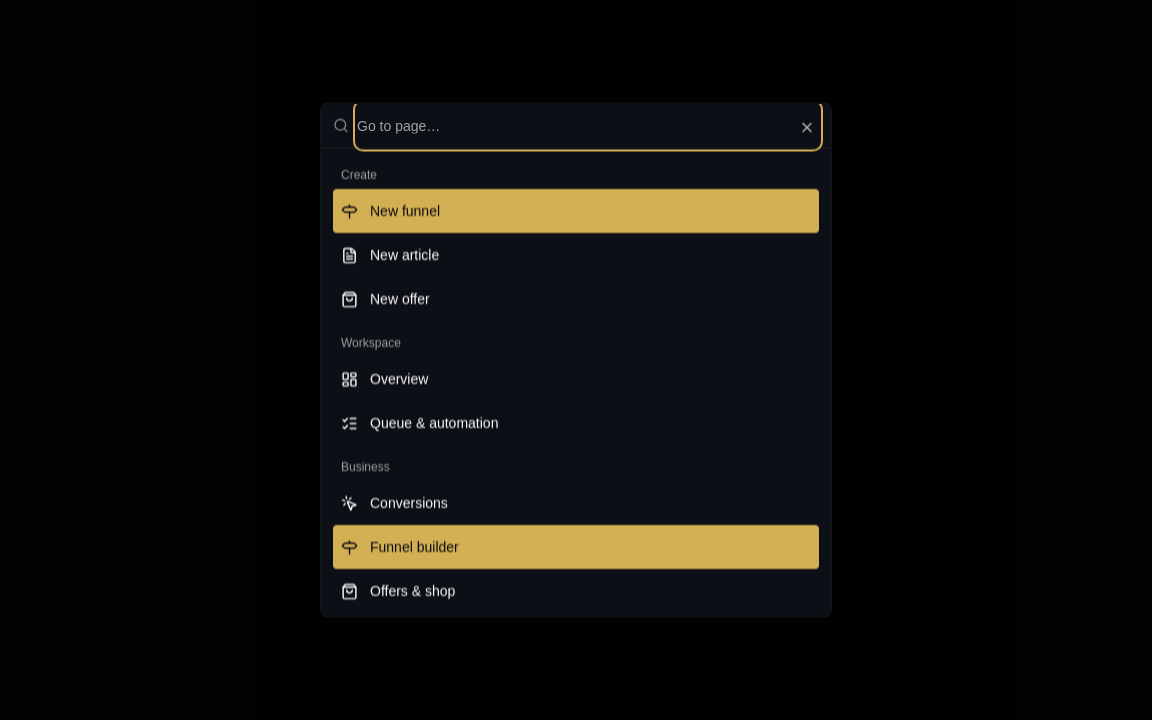
Test: admin command navigation › Enter on topic guide opens the highlighted best match /admin/pillars
This screenshot has width=1152, height=720.
Later steps or results of the test are not shown.
In the dropdown: (588, 126) x1=357 y1=104 x2=819 y2=148, type "topic guide"
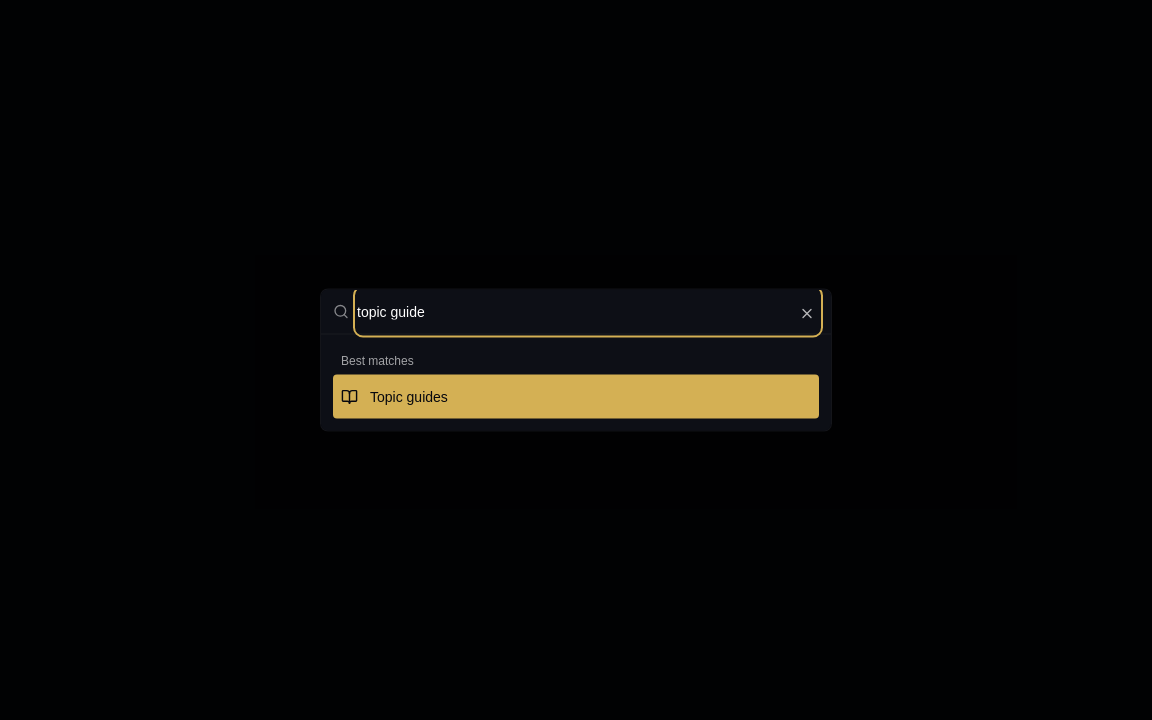
Expected: the option "Topic guides" is shown, x1=333 y1=374 x2=819 y2=418
